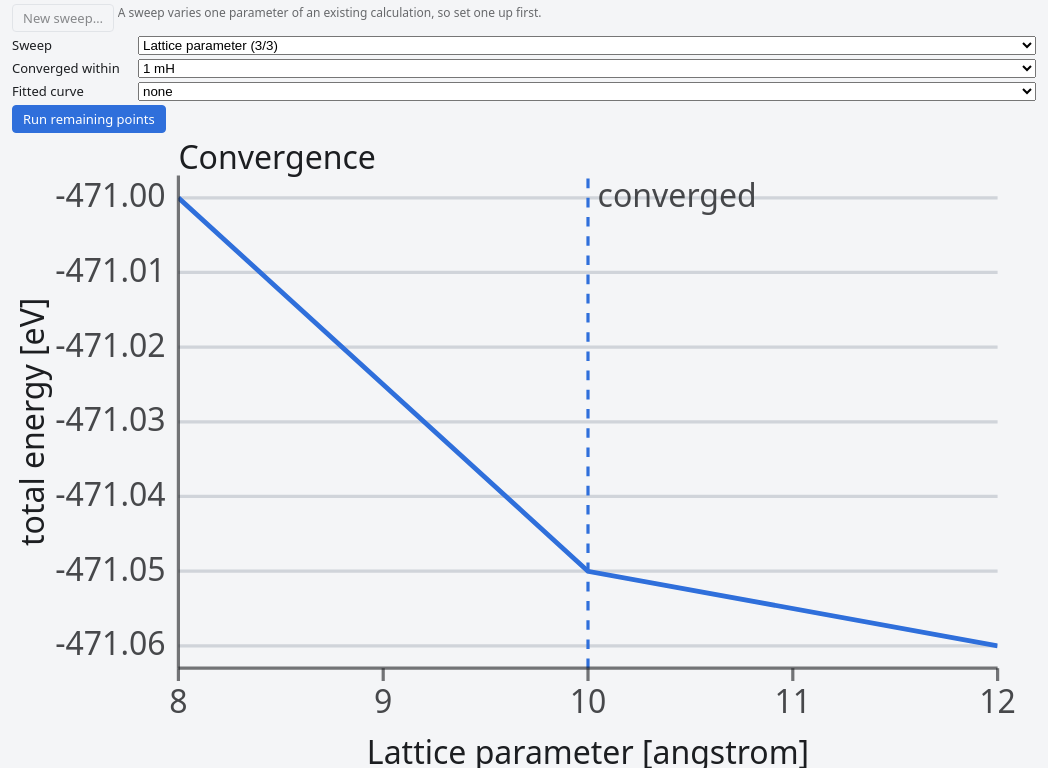
Test: the cubic is drawn on the sweep own axes, because that is what it fits (Fig. 6.6)
The image size is (1048, 768).
Select "cubic (Fig. 6.6)" in the dropdown labelled "Fitted curve" at (587, 91), box [138, 82, 1036, 101]
(page scrolled)
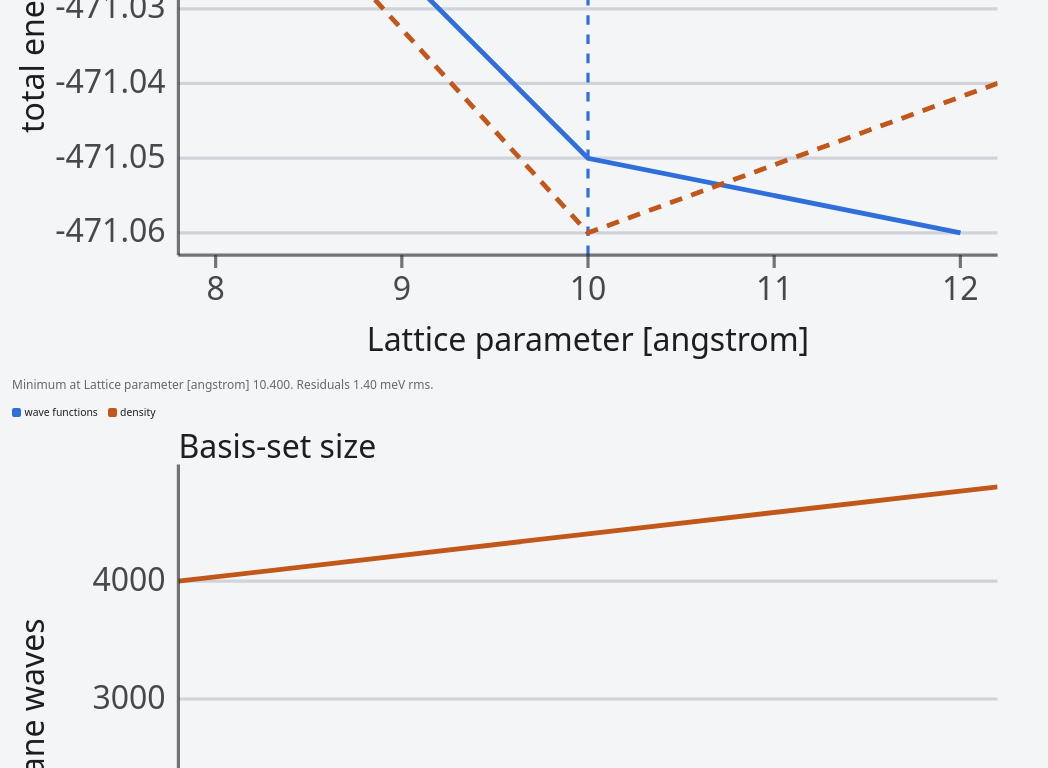
Now the text "Minimum at Lattice parameter" shows "10.400", box [12, 376, 434, 393]
